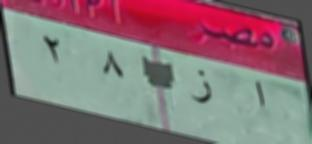2: (36, 33, 68, 71)
8: (92, 50, 127, 80)
alif: (246, 74, 273, 116)
zay: (187, 66, 216, 114)
